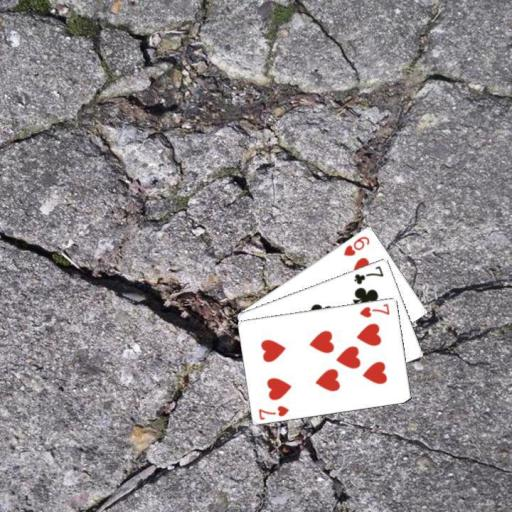6H: (341, 233, 371, 258)
7C: (351, 262, 385, 286)
7H: (356, 300, 391, 319), (255, 402, 290, 421)
